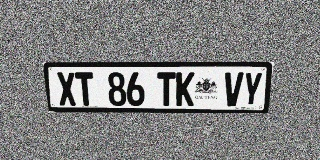6: (126, 72, 145, 106)
8: (107, 72, 127, 106)
K: (176, 72, 195, 106)
T: (75, 72, 95, 106), (157, 72, 176, 106)
V: (223, 72, 244, 106)
X: (56, 72, 77, 106)
Y: (241, 72, 263, 106)
